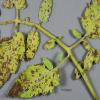Tomato Septoria leaf spot: (6, 61, 61, 98), (0, 27, 25, 90), (77, 1, 99, 43), (23, 30, 39, 63), (83, 46, 100, 74), (35, 0, 55, 23), (42, 38, 56, 53)
